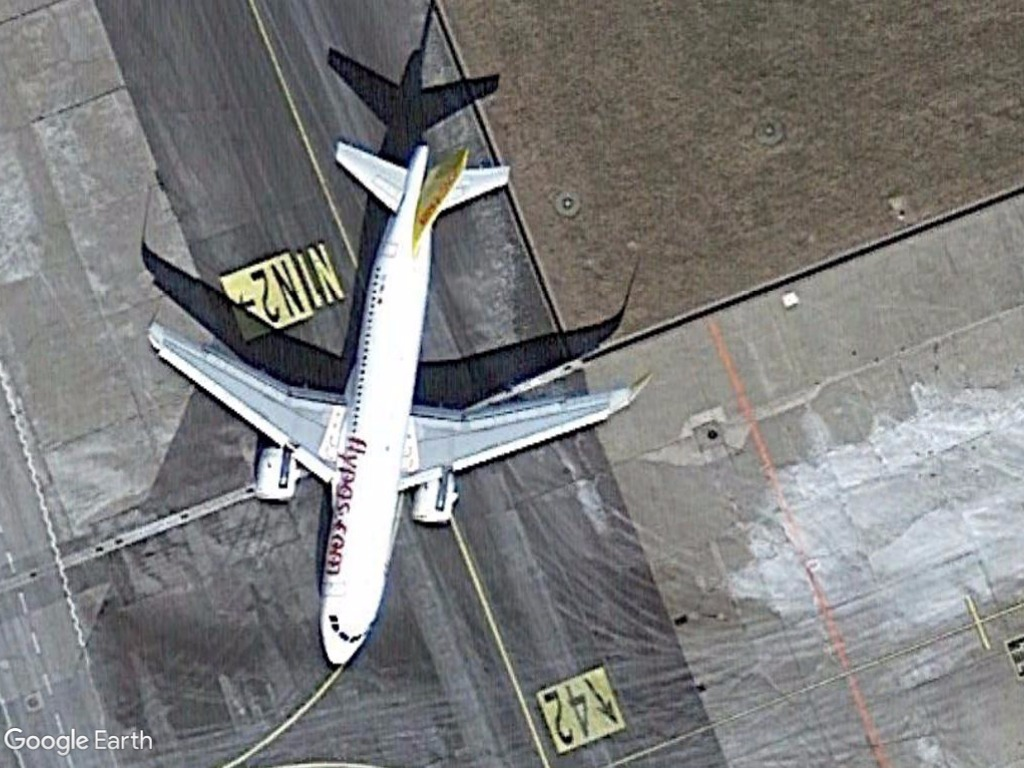airliner: (146, 126, 655, 679)
